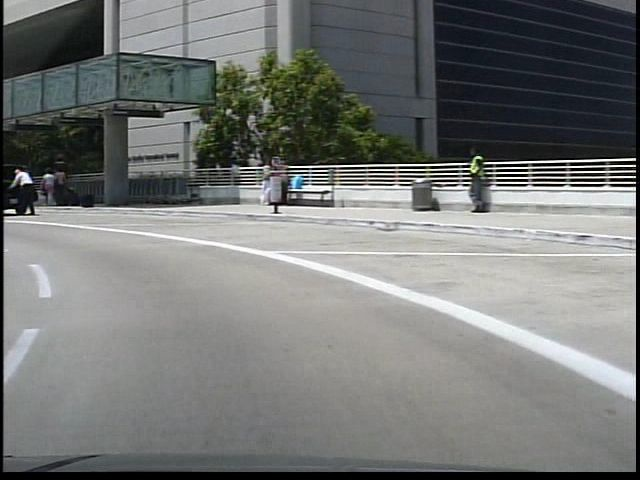person: (456, 149, 483, 221), (10, 165, 35, 217), (49, 167, 65, 212), (37, 168, 52, 209)
